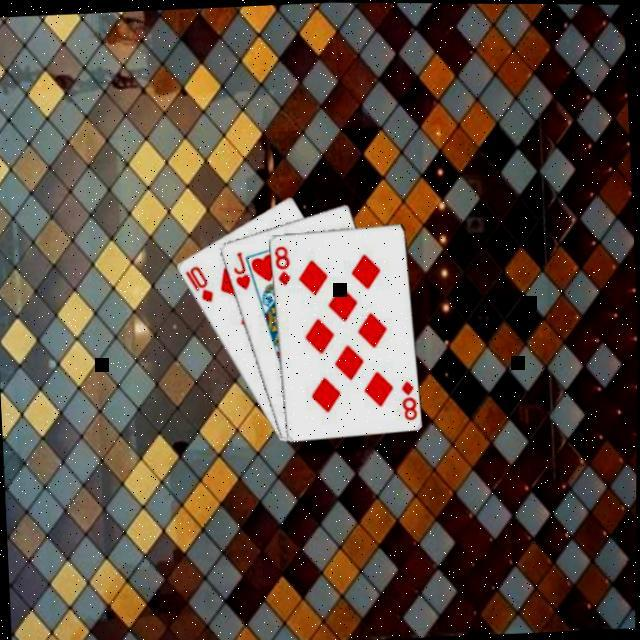10D: (181, 262, 215, 306)
8D: (270, 243, 292, 289), (396, 377, 418, 423)
JH: (229, 249, 253, 293)
